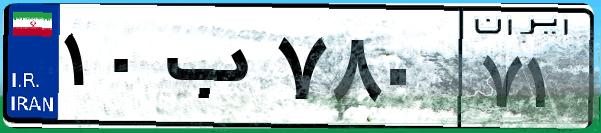0: (385, 28, 445, 110), (110, 28, 158, 98)
1: (57, 26, 110, 100), (525, 38, 570, 115)
7: (270, 28, 330, 110), (475, 38, 525, 113)
8: (330, 28, 385, 110)
ب: (158, 20, 270, 120)
